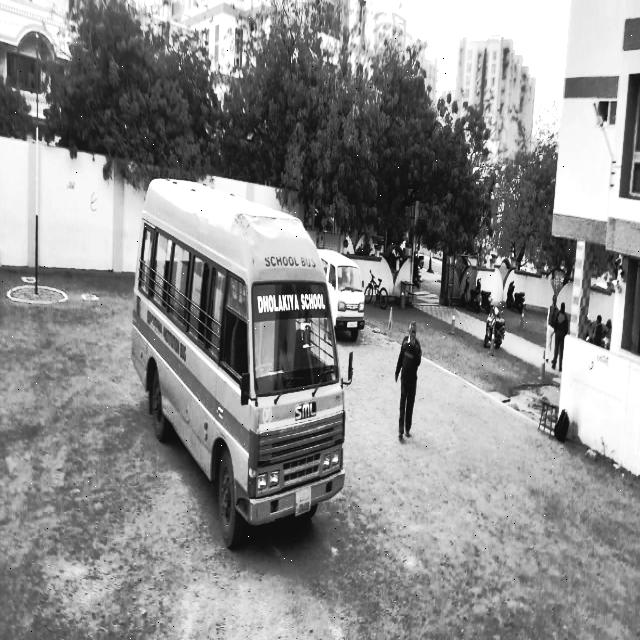Bus: (127, 166, 353, 572)
